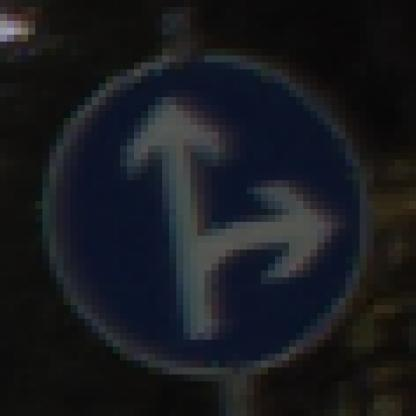Straight or Right: (36, 43, 382, 382)
